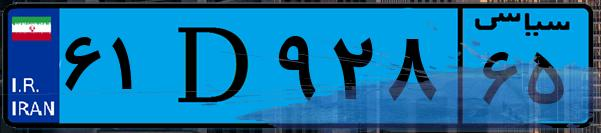1: (110, 28, 158, 98)
2: (330, 28, 385, 110)
5: (525, 38, 570, 115)
6: (57, 26, 110, 100), (475, 38, 525, 113)
8: (385, 28, 445, 110)
9: (270, 28, 330, 110)
D: (158, 12, 270, 120)
